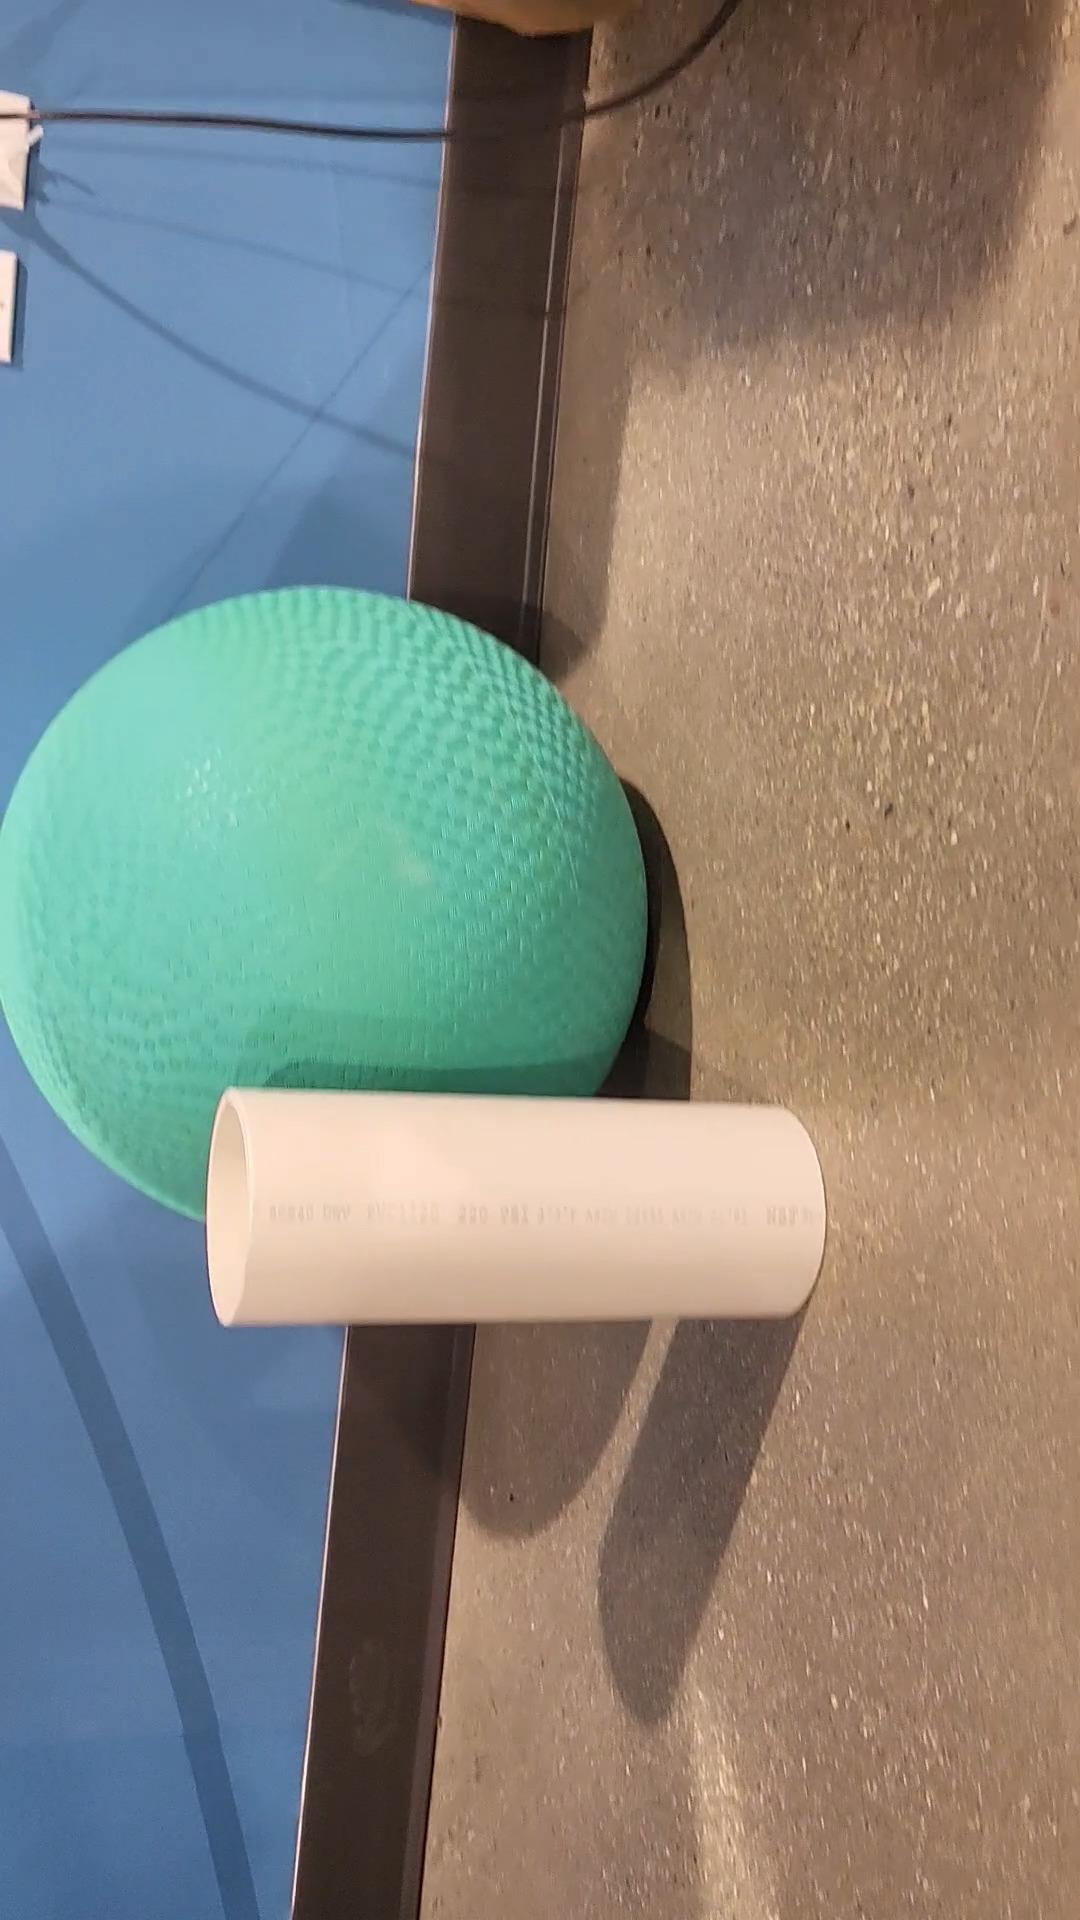algae: (0, 585, 650, 1220)
coral: (212, 1092, 820, 1331)
